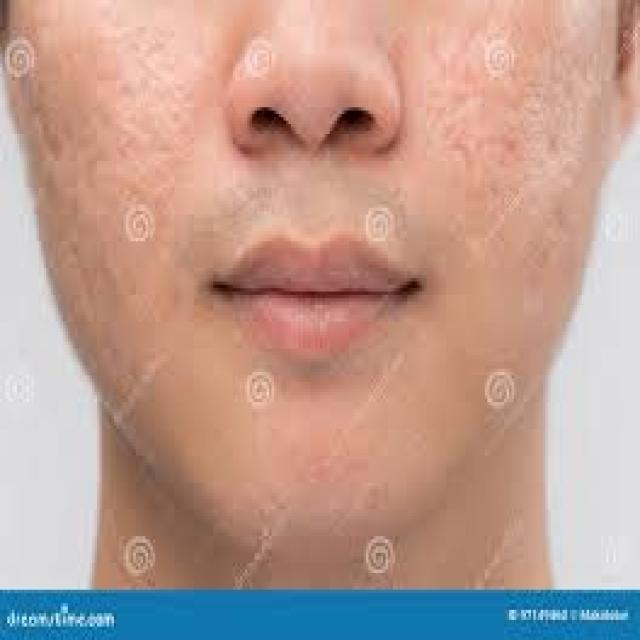Englarged-Pores: (454, 47, 585, 230)
Oily-Skin: (87, 25, 185, 200)
